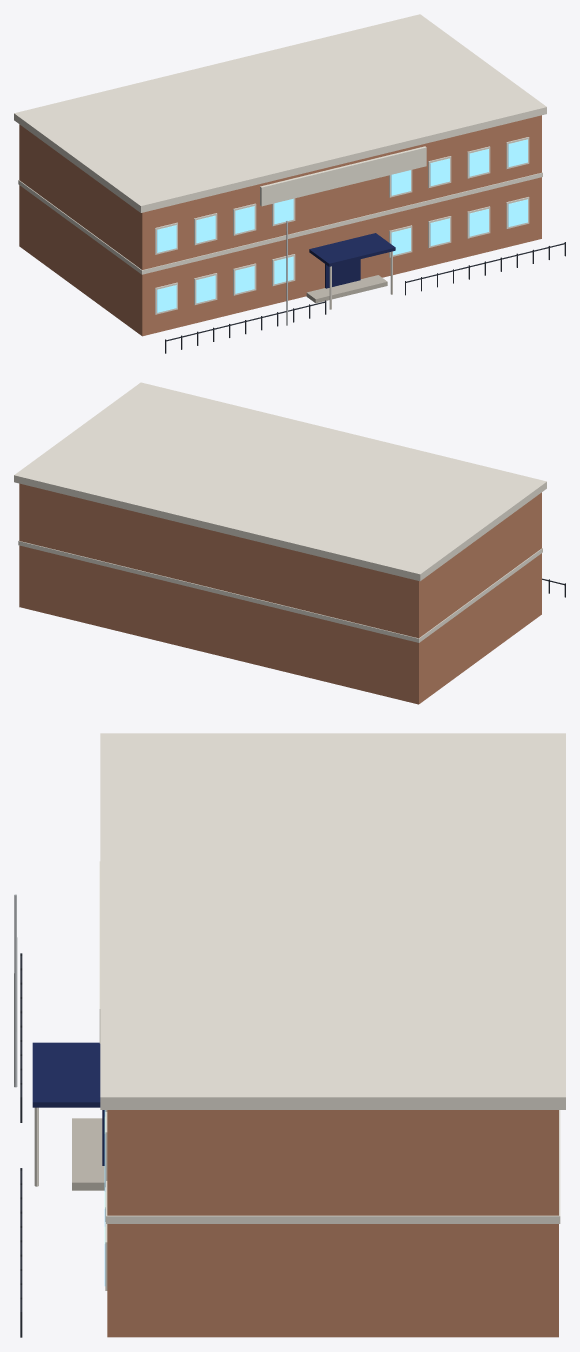
File: community_baisyaakov.glb
The picture shows the model from 3 angles, top to bottom: view 1: azimuth 30°, elevation 25°; view 2: azimuth 150°, elevation 25°; view 3: azimuth 270°, elevation 25°; orthographic projection. The views are drawn at different scales.
Parts seen in each view (by area): view 1: CommunityBaisYaakov_body; view 2: CommunityBaisYaakov_body; view 3: CommunityBaisYaakov_body.
Part boxes in pixels (x1,y1,x2,y2): CommunityBaisYaakov_body: (14, 14, 565, 353); CommunityBaisYaakov_body: (14, 382, 565, 704); CommunityBaisYaakov_body: (14, 733, 565, 1337).
Bounding box in the file's own units: 30.5 × 9.5 × 19.56.
